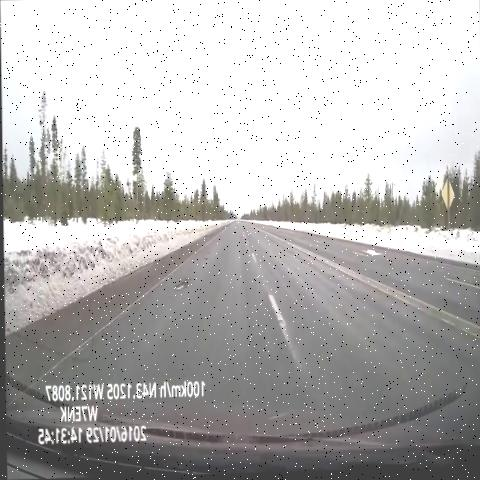pothole: (169, 274, 191, 302), (197, 252, 212, 270)
